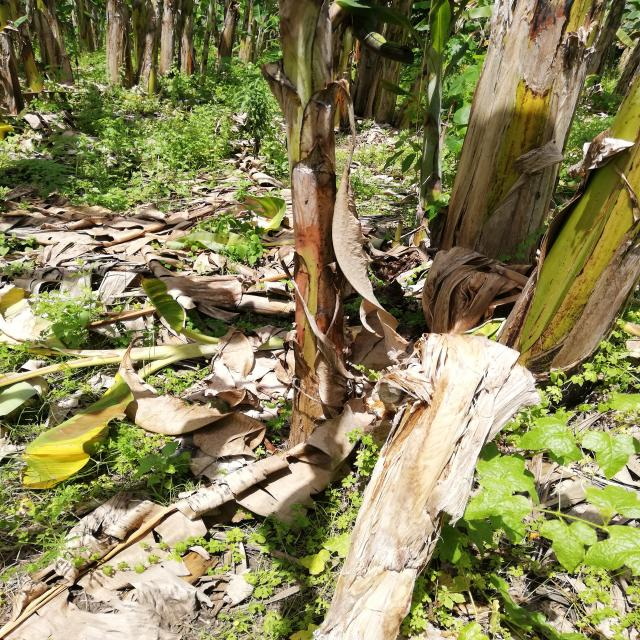Banana-plant: (434, 0, 606, 294), (476, 67, 640, 368), (271, 0, 344, 451)
